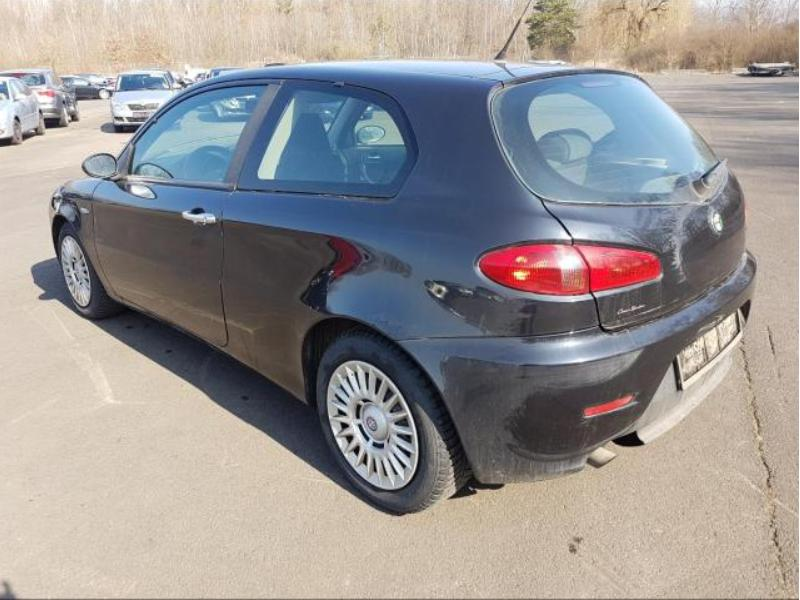Back-bumper: (405, 255, 756, 484)
Back-wheel: (311, 326, 469, 513)
Back-window: (232, 79, 416, 196)
Back-windshield: (492, 73, 719, 203)
Fender: (50, 177, 114, 298)
Front-door: (92, 76, 280, 345)
Front-wheel: (57, 222, 118, 319)
Front-window: (129, 87, 265, 191)
Mirror: (81, 153, 121, 181)
Quarter-panel: (222, 178, 601, 396)
Rocker-panel: (112, 290, 305, 407)
Roof: (211, 58, 632, 86)
Tail-light: (479, 243, 666, 299)
Trunk: (543, 163, 747, 333)
